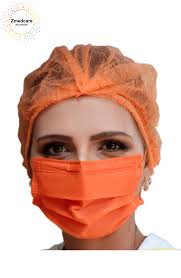with_mask_and_cap: (20, 48, 155, 238)
